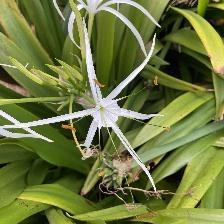spider lily: (73, 79, 150, 160)
